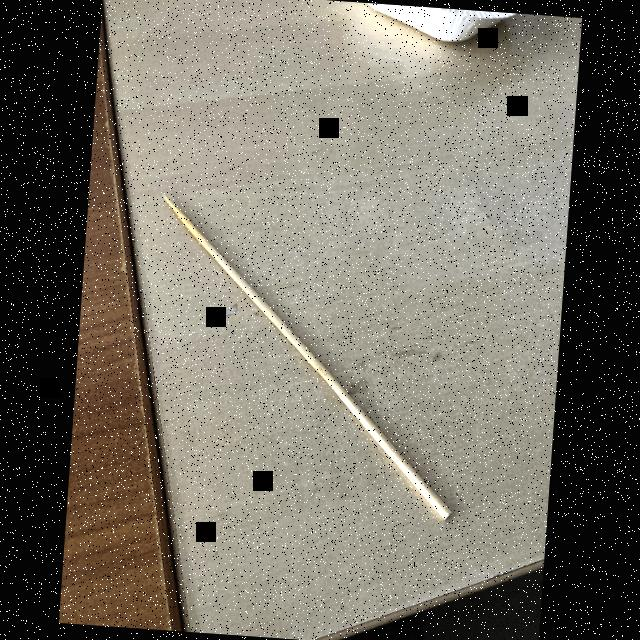stick: (133, 184, 482, 526)
